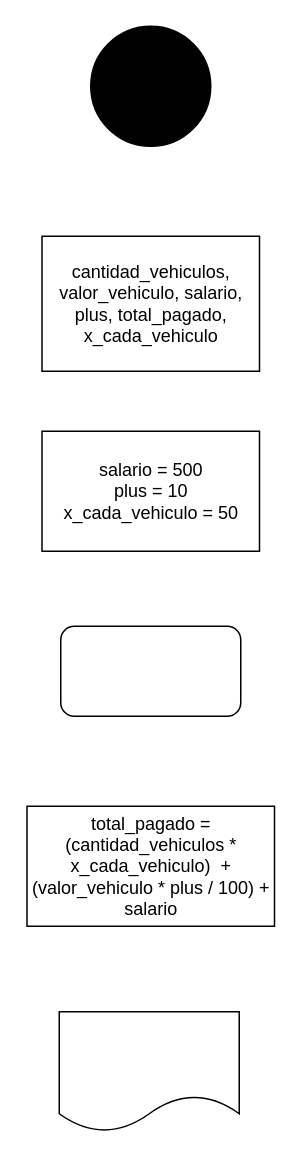
The diagram is 300 pixels wide and 1158 high, and some of its shapes have lost their labels. The shapes that lost their labels are listed below. From the top down, each one's centre as x and y in pixels, then its label:
[150,670]: Ingreso cantidad_vehiculos, valor_vehiculo
[148,1071]: "El total a pagar es :", total_pagado
